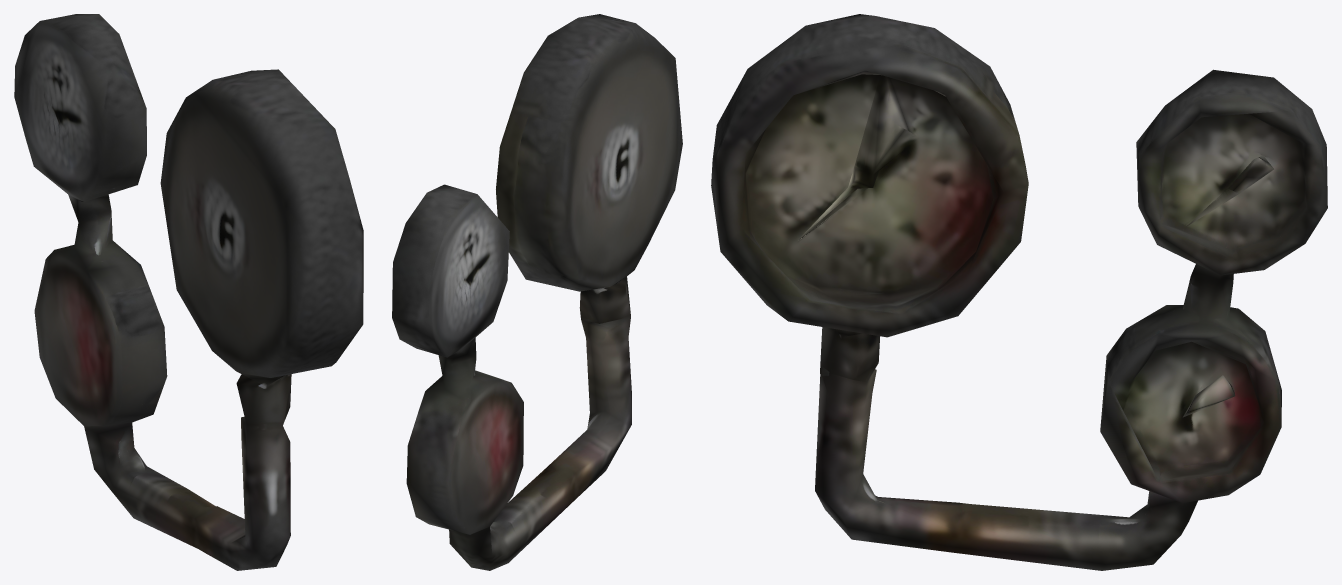
The model's file is tripo_convert_eef4ef19-73a4-4f11-8e5c-158f62658874.fbx.
The picture shows the model from 3 angles, left to right: view 1: azimuth 30°, elevation 25°; view 2: azimuth 150°, elevation 25°; view 3: azimuth 270°, elevation 25°; orthographic projection. The views are drawn at different scales.
Visible parts, largest first — view 1: tripo_node_eef4ef19; view 2: tripo_node_eef4ef19; view 3: tripo_node_eef4ef19.
Part boxes in pixels (x1,y1,x2,y2): tripo_node_eef4ef19: [14, 14, 363, 570]; tripo_node_eef4ef19: [392, 14, 682, 570]; tripo_node_eef4ef19: [711, 14, 1327, 570].
Size of the model in its own units: 0.1374 by 0.9787 by 0.9987.
1 material, 1 textured.
